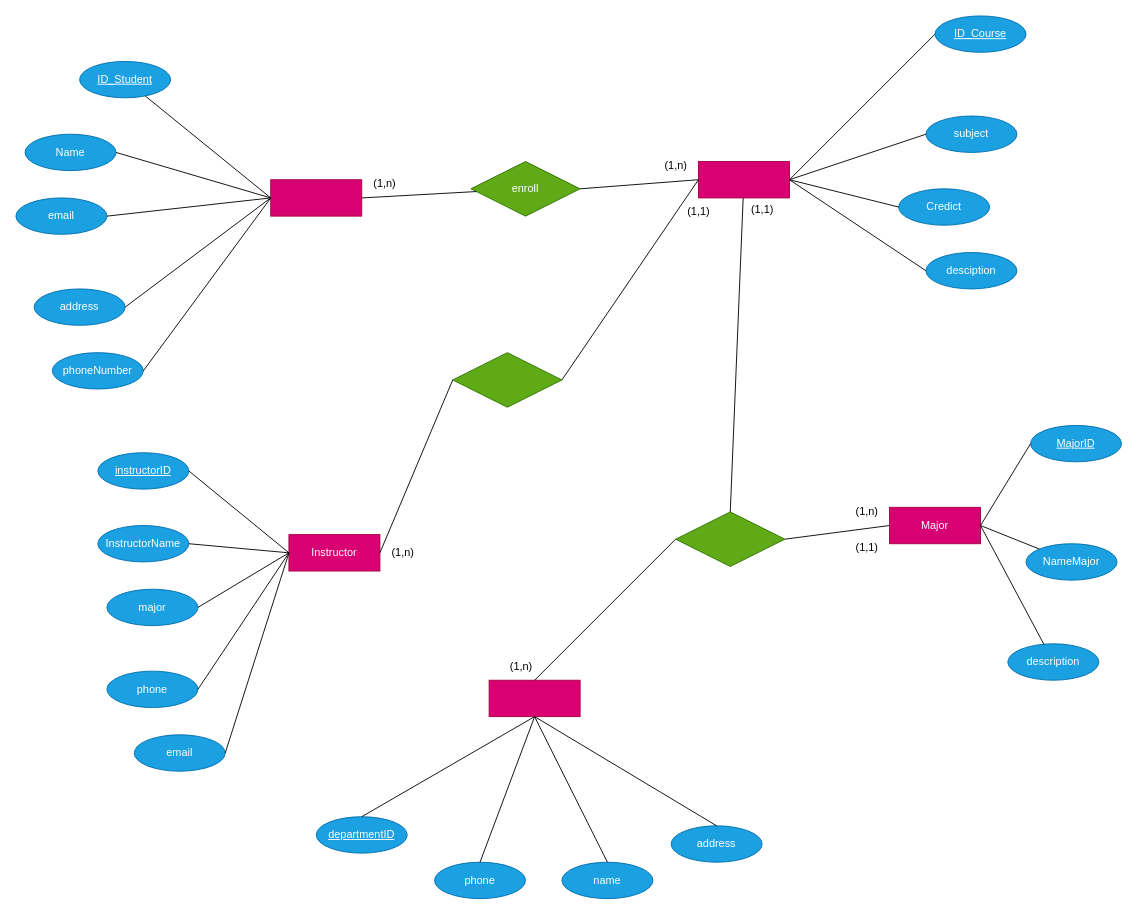
Image size: 1138x915. Some labels were removed from this diagram. The shapes that lost their labels are listed below. From the top down, each one's box as (x1, y1, x2, y2) in pixels, then its label:
(270, 179, 362, 216): Student
(698, 161, 789, 198): Course
(452, 352, 562, 407): teach
(675, 511, 785, 566): Is
(488, 679, 580, 717): Department
